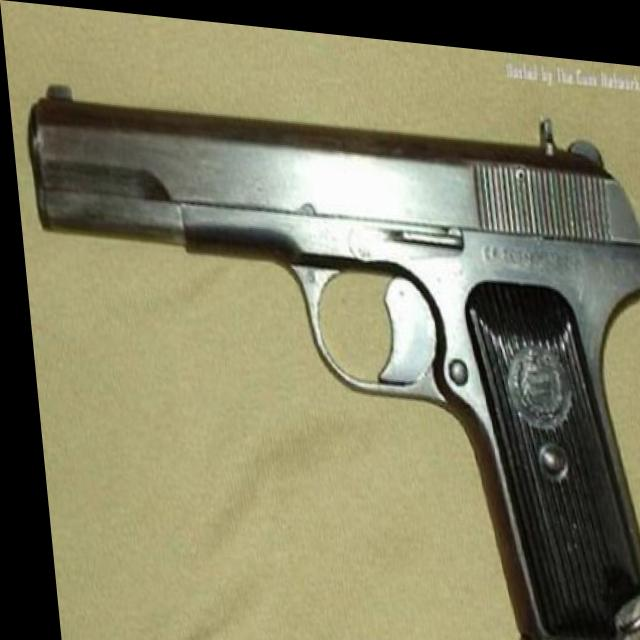handgun: (14, 59, 640, 640)
